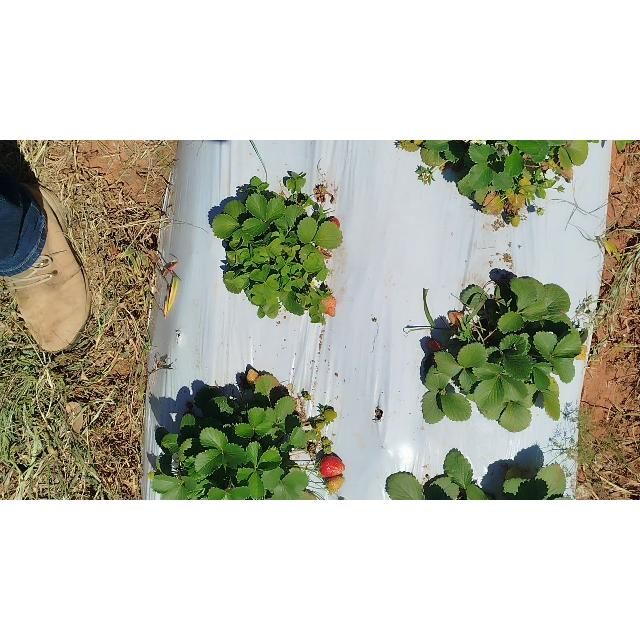maduro: (320, 455, 346, 477)
no-maduro: (320, 296, 338, 316), (326, 477, 344, 493), (245, 369, 257, 386)
semi-maduro: (446, 310, 464, 326)
